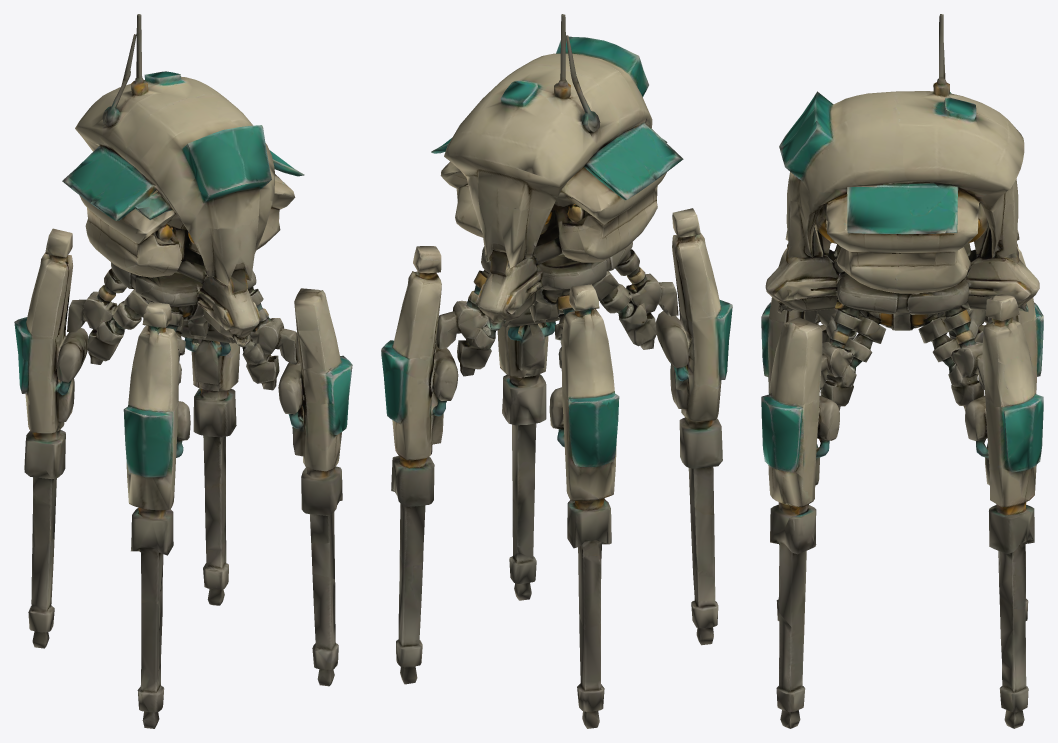
Rendered from stalker.glb.
3 renders of one model, left to right at view 1: azimuth 30°, elevation 25°; view 2: azimuth 150°, elevation 25°; view 3: azimuth 270°, elevation 25°, orthographic. The views are drawn at different scales.
Size of the model in its own units: 0.6804 by 1.9 by 0.7423.
1 material, 1 textured.
